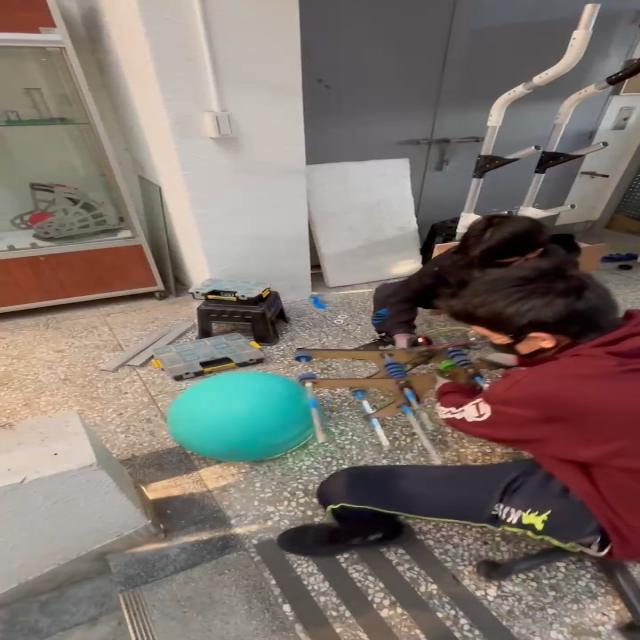ALGAE: (164, 370, 322, 462)
